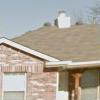Chimney: (50, 7, 75, 33)
